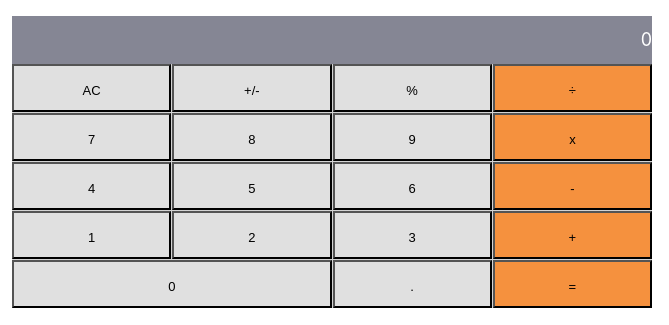
Test: User interactions › Input 2.3 on calculator
Click the button "2" at [252, 235], box left=172, top=211, right=332, bottom=259
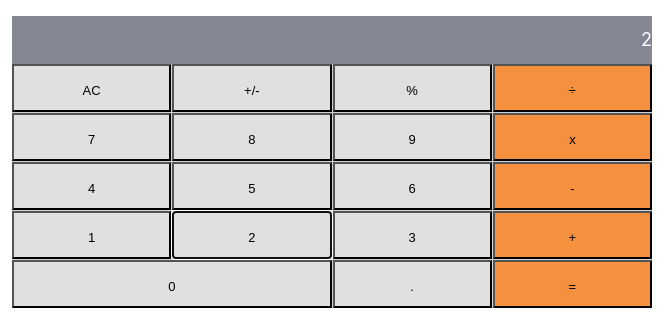
Click the button "." at [412, 284], box left=332, top=260, right=492, bottom=308
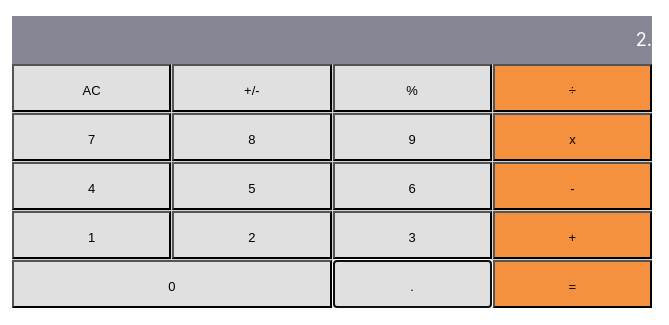
Click the button "3" at [412, 235], box left=332, top=211, right=492, bottom=259
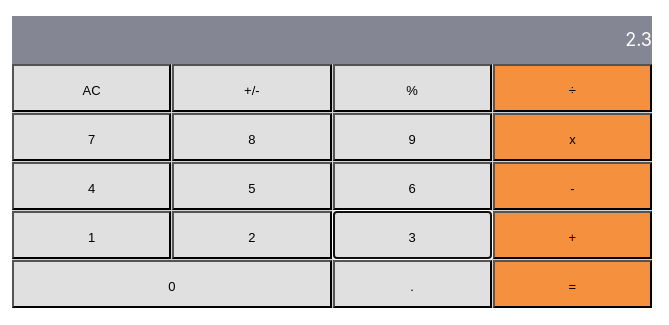
Now the text with test id "displayCalc" reads "2.3", box left=625, top=29, right=652, bottom=50
